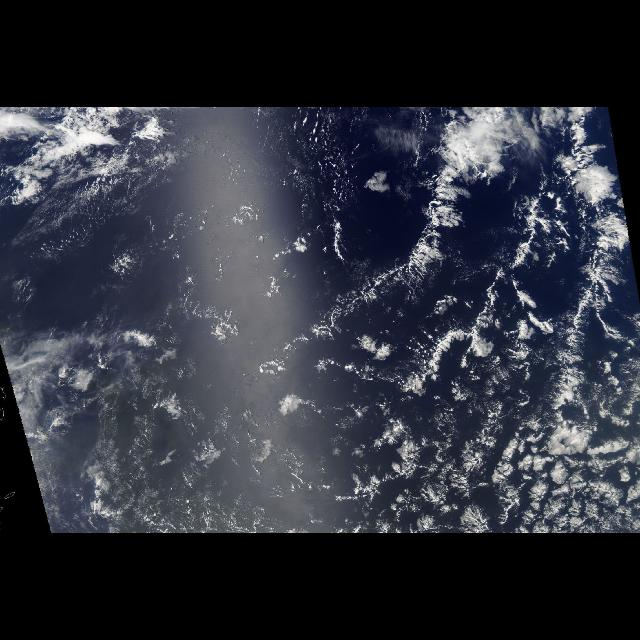Fish: (243, 108, 633, 446)
Flower: (165, 396, 638, 532)
Sugar: (49, 116, 418, 244)
